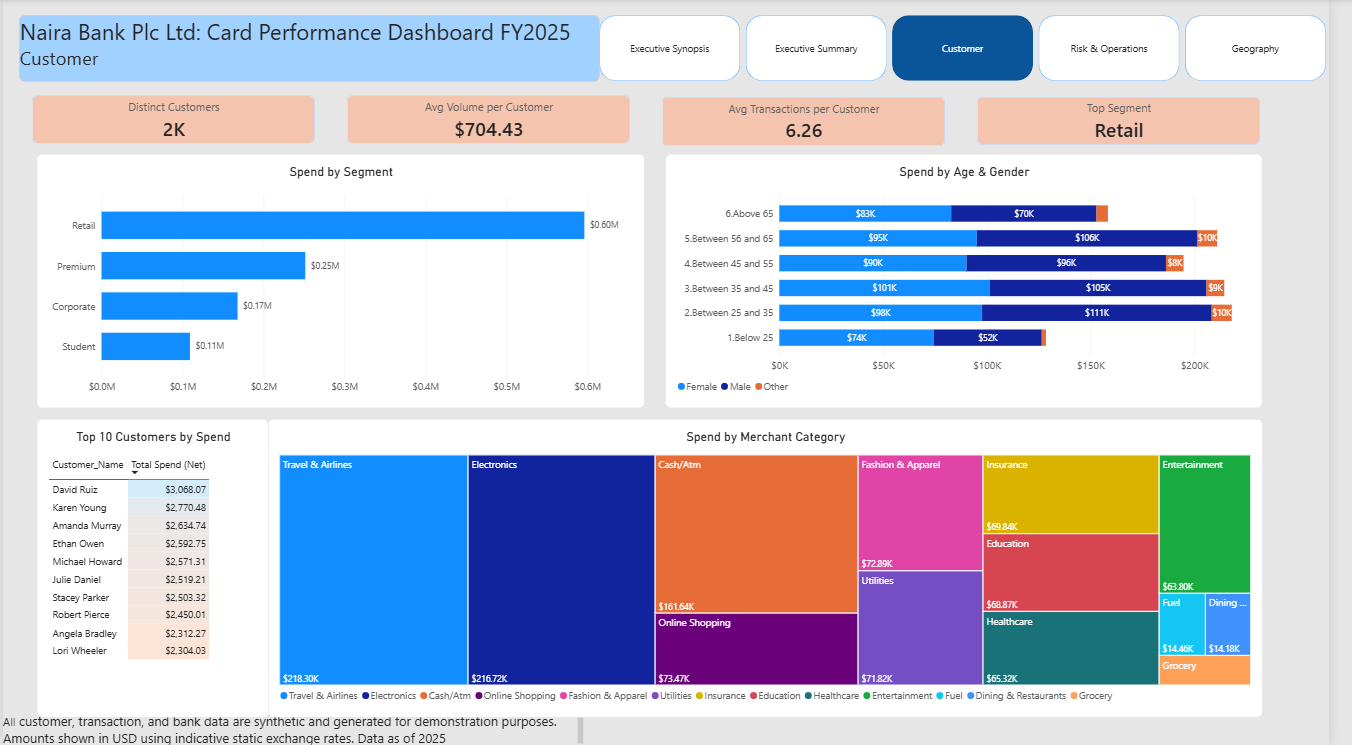

The dashboard page shown, as its layout file describes it:
{"tool":"powerbi","page":{"name":"Customer","canvas":[1920,1080],"ordinal":2},"visuals":[{"type":"textbox","box":[24,24,840,96],"z":0},{"type":"pageNavigator","box":[864,24,1056,96],"z":1000},{"type":"textbox","box":[0,1032,840,48],"z":2000},{"type":"cardVisual","fields":{"Data":["_Measures.Distinct Customers"]},"box":[41.3,138.5,410,70],"z":7000},{"type":"cardVisual","fields":{"Data":["_Measures.Avg Volume per Customer"]},"box":[497.3,138.5,410,70],"z":8000},{"type":"cardVisual","fields":{"Data":["_Measures.Avg Transactions per Customer"]},"box":[953.1,141.5,410,72],"z":9000},{"type":"cardVisual","fields":{"Data":["_Measures.Top Segment"]},"box":[1409.1,141.5,410,70],"z":10000},{"type":"clusteredBarChart","title":"Spend by Segment","fields":{"Category":["Dim_Customer.Customer_Segment"],"Y":["_Measures.Total Spend (Net)"]},"box":[48,224,880,368],"z":11000},{"type":"barChart","title":"Spend by Age & Gender","fields":{"Category":["Dim_Customer.Age_Band"],"Series":["Dim_Customer.Customer_Gender"],"Y":["_Measures.Total Spend (Net)"]},"box":[960,224,864,368],"z":12000},{"type":"tableEx","title":"Top 10 Customers by Spend","fields":{"Values":["Dim_Customer.Customer_Name","_Measures.Total Spend (Net)"]},"box":[48,608,336,432],"z":13000},{"type":"treemap","title":"Spend by Merchant Category","fields":{"Group":["Fact_Transactions.Merchant_Category"],"Values":["_Measures.Total Spend (Net)"]},"box":[384,608,1440,432],"z":14000}]}

Visuals, with their boxes in screenshot pixels (x1, y1, x2, y2), scaled from the page's 1920x1080 canvas onto the 1352x745 screenshot:
textbox: (left=17, top=17, right=608, bottom=83)
pageNavigator: (left=608, top=17, right=1351, bottom=83)
textbox: (left=0, top=712, right=592, bottom=744)
cardVisual - _Measures.Distinct Customers: (left=29, top=96, right=318, bottom=144)
cardVisual - _Measures.Avg Volume per Customer: (left=350, top=96, right=639, bottom=144)
cardVisual - _Measures.Avg Transactions per Customer: (left=671, top=98, right=960, bottom=147)
cardVisual - _Measures.Top Segment: (left=992, top=98, right=1281, bottom=146)
"Spend by Segment" clusteredBarChart: (left=34, top=155, right=653, bottom=408)
"Spend by Age & Gender" barChart: (left=676, top=155, right=1284, bottom=408)
"Top 10 Customers by Spend" tableEx: (left=34, top=419, right=270, bottom=717)
"Spend by Merchant Category" treemap: (left=270, top=419, right=1284, bottom=717)
